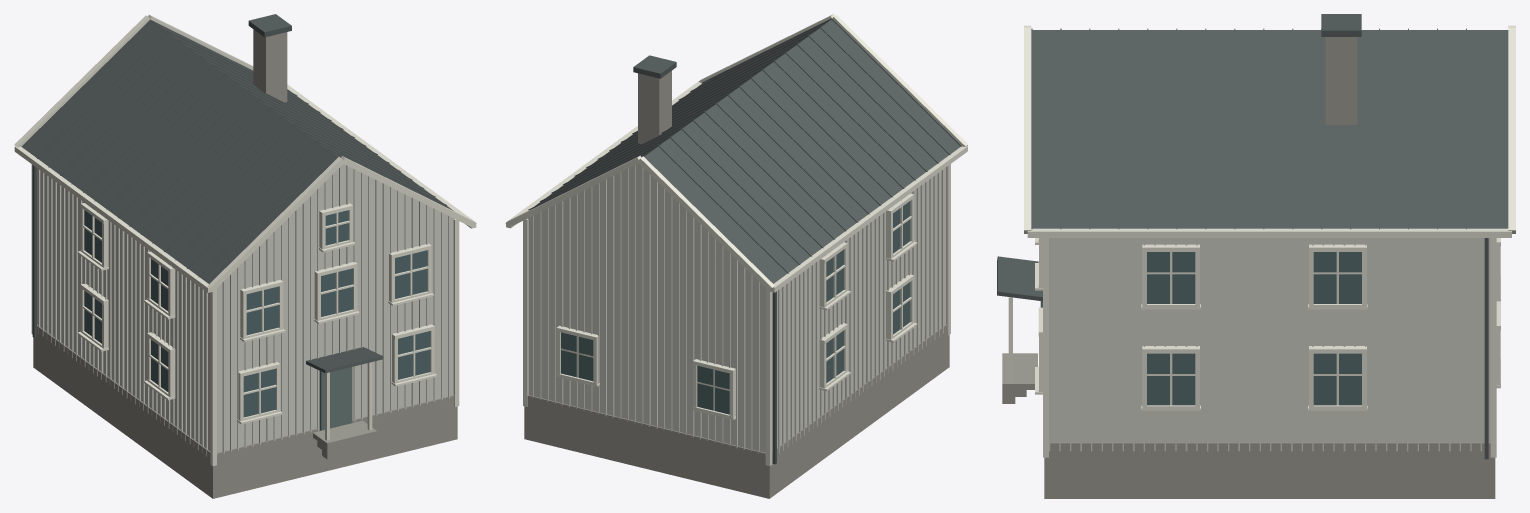
The model's file is house_near.glb.
3 renders of one model, left to right at view 1: azimuth 30°, elevation 25°; view 2: azimuth 150°, elevation 25°; view 3: azimuth 270°, elevation 25°, orthographic. The views are drawn at different scales.
Visible parts, largest first — view 1: house_near; view 2: house_near; view 3: house_near.
Part boxes in pixels (x1,y1,x2,y2): house_near: [14, 14, 476, 498]; house_near: [505, 14, 968, 498]; house_near: [997, 14, 1515, 498].
Bounding box in the file's own units: 8.86 × 10.92 × 11.82.
